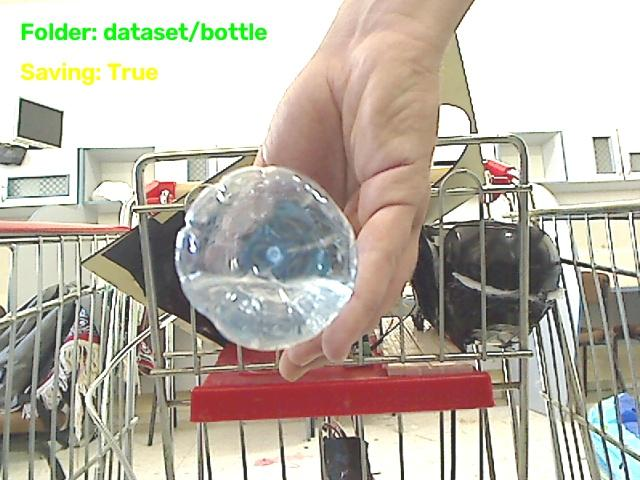Bottle: (176, 167, 356, 348)
can: (176, 169, 357, 349)
